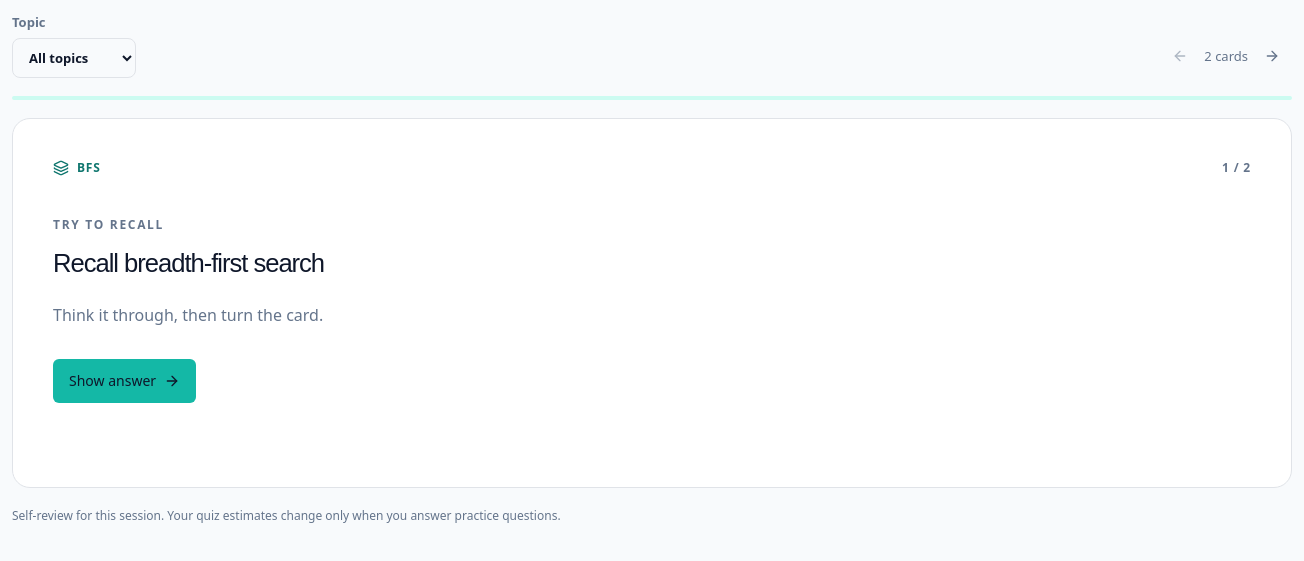
Scenario: reveals cards before self-rating and repeats only the requested cards
Expected: the text "Explore by depth." is not shown
Expected: the button "Got it" is not shown
Step 1. Click the button "Show answer" → {"x": 125, "y": 381}, box [53,359,196,403]
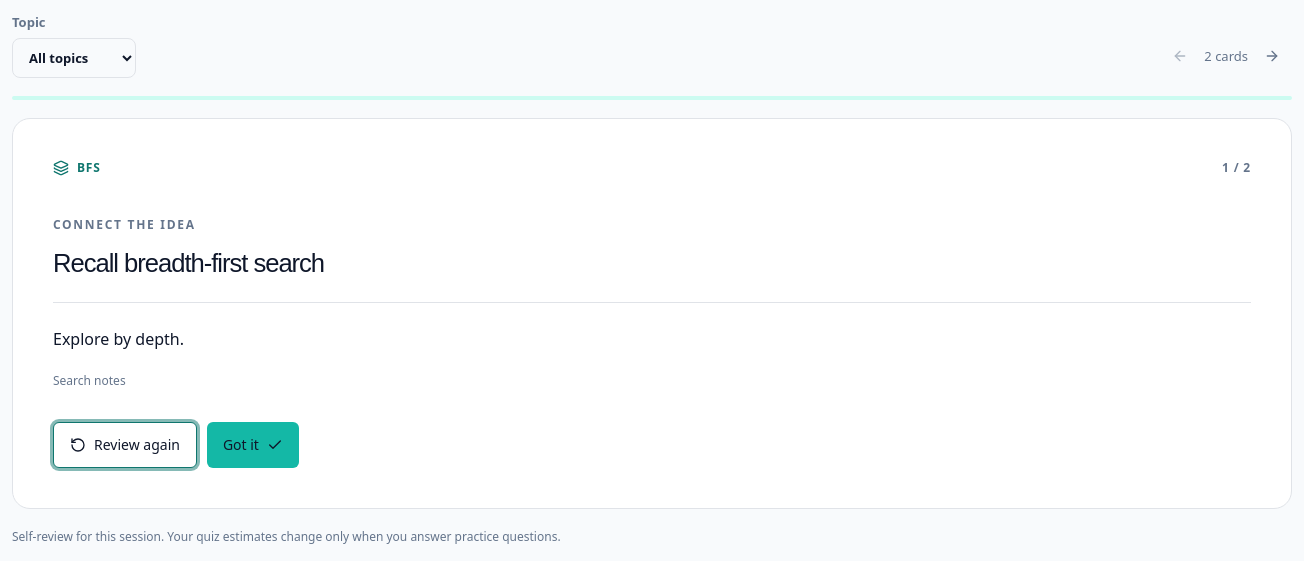
Expected: the text "Explore by depth." is shown, [53,328,184,350]
Step 2. Click the button "Review again" → {"x": 125, "y": 444}, box [53,422,197,468]
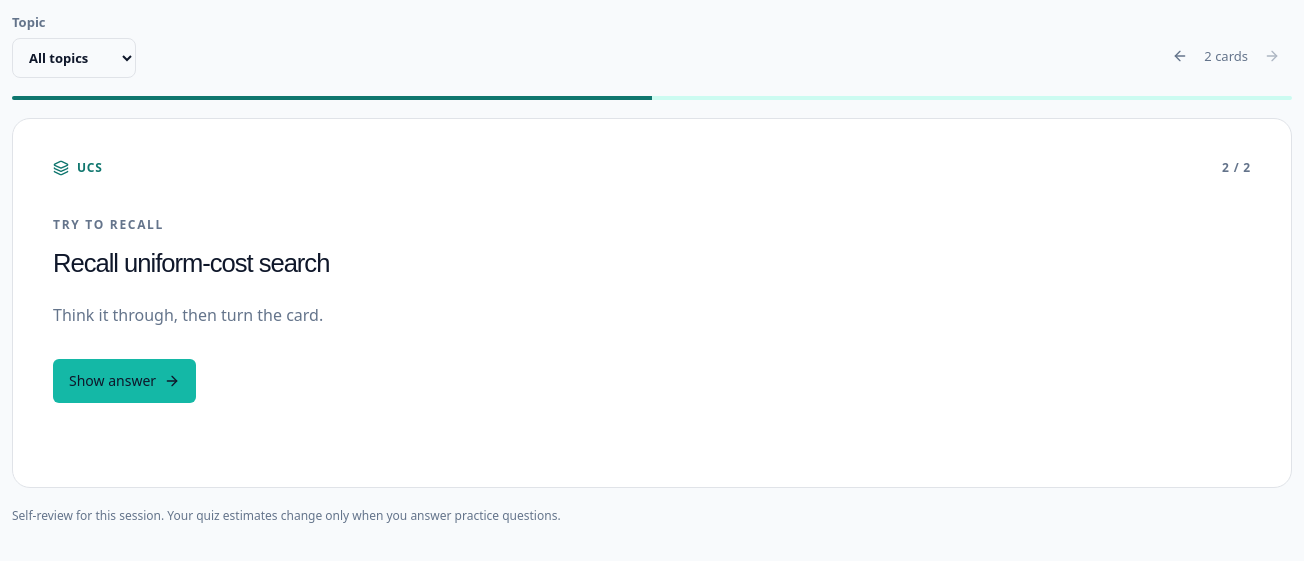
Expected: the text "Explore by accumulated cost." is not shown
Expected: the heading "Recall uniform-cost search" is shown, [53,249,329,277]
Step 3. Click the button "Show answer" → {"x": 125, "y": 381}, box [53,359,196,403]
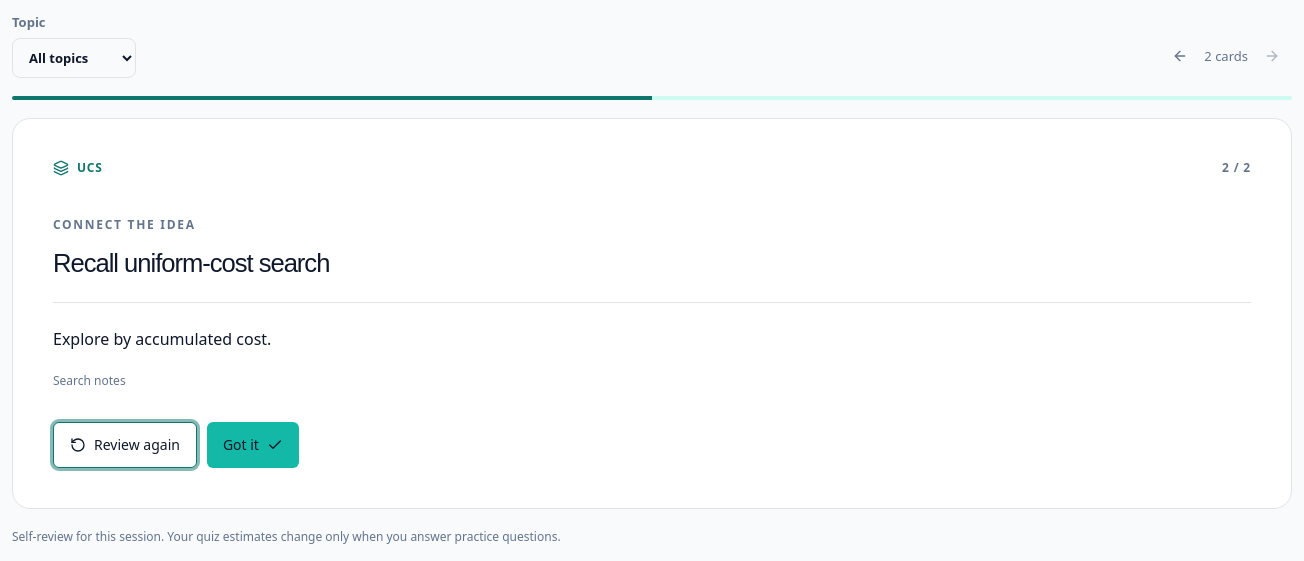
Step 4. Click the button "Got it" → {"x": 253, "y": 444}, box [207,422,299,468]
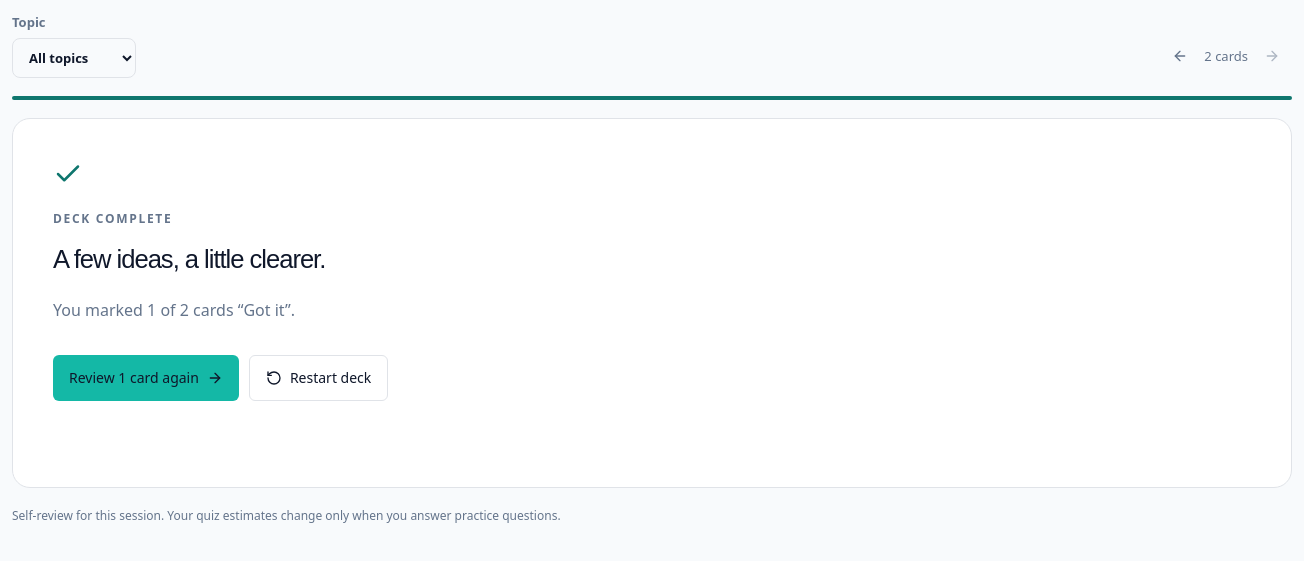
Expected: the text "You marked 1 of 2 cards “Got it”." is shown, [53,299,295,321]
Step 5. Click the button "Review 1 card again" → {"x": 146, "y": 378}, box [53,354,239,400]
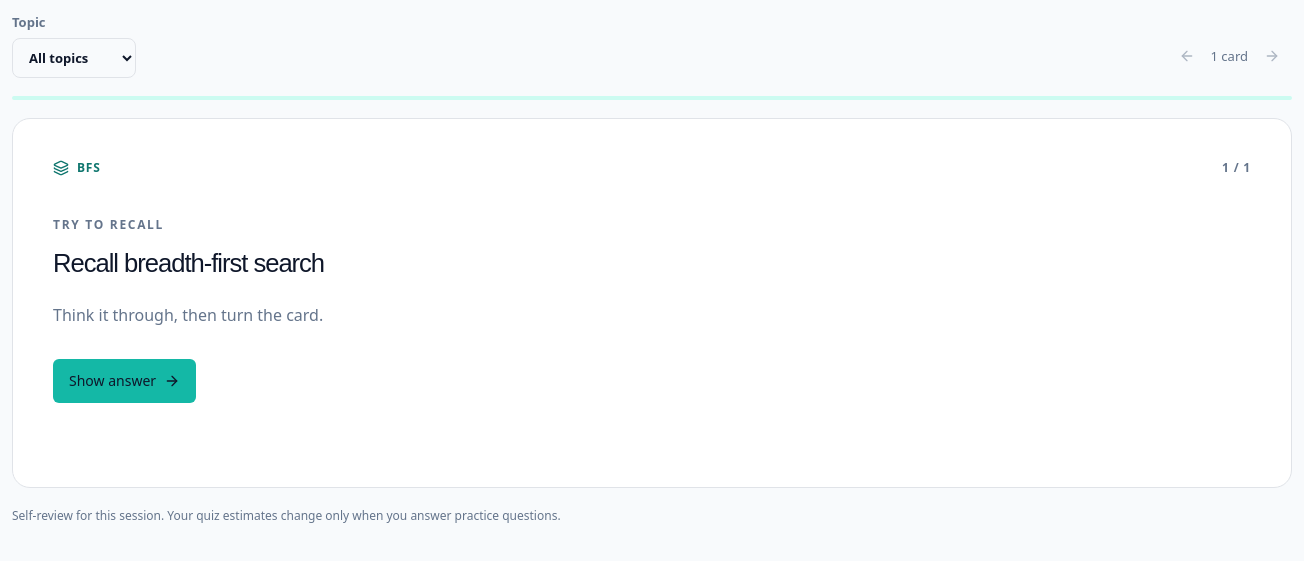
Expected: the heading "Recall breadth-first search" is shown, [53,249,324,277]
Step 6. Select "UCS" in the dropdown labelled "Topic" → {"x": 74, "y": 58}, box [12,38,136,78]
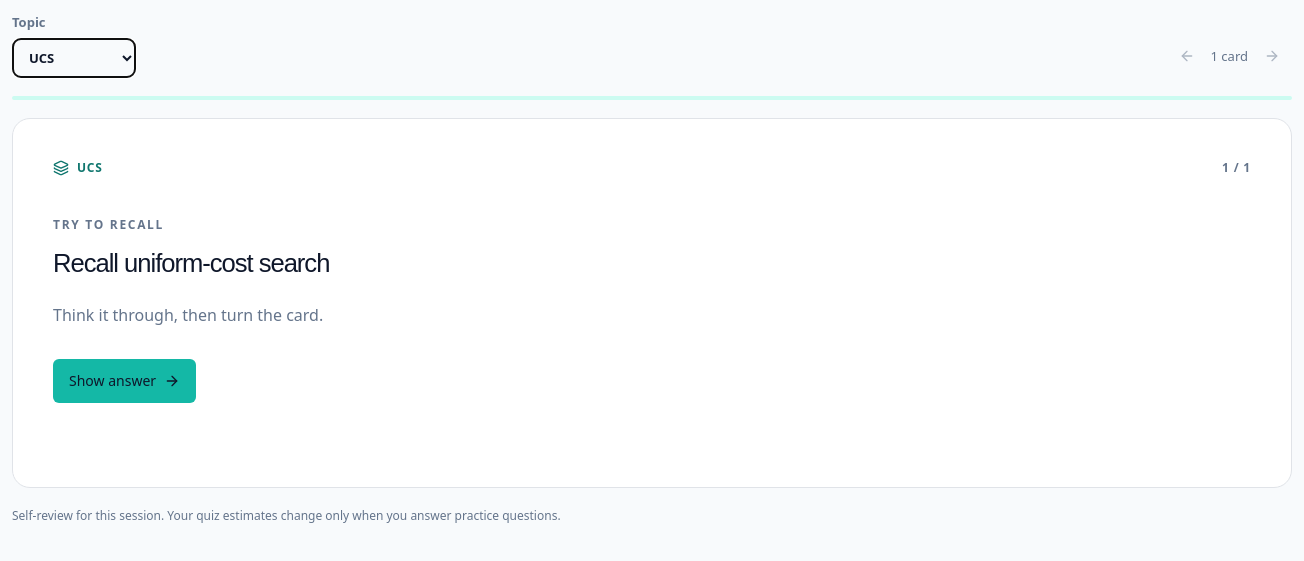
Expected: the heading "Recall uniform-cost search" is shown, [53,249,329,277]
